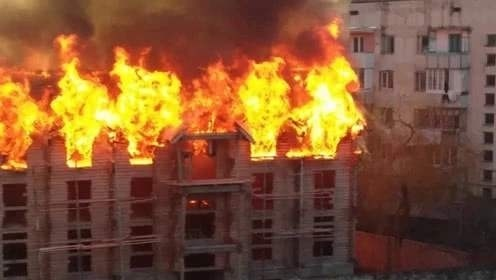fire: (3, 37, 371, 168)
